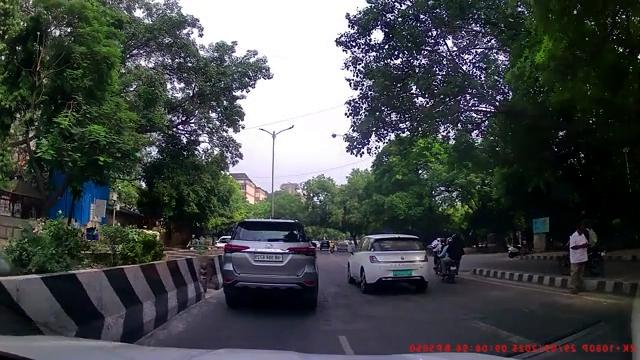passenger_with_helmet: (433, 231, 464, 282)
